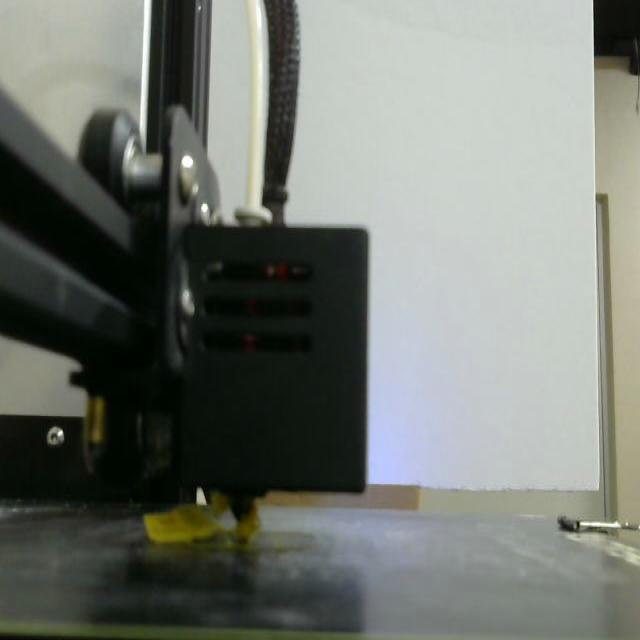spaghetti: (144, 493, 229, 543), (232, 505, 260, 544)
